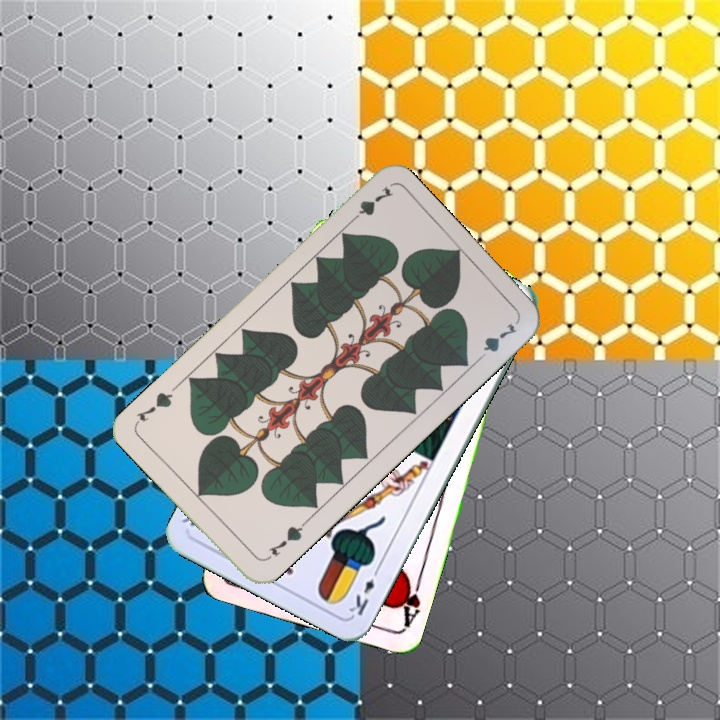EK: (345, 562, 382, 619)
G7: (343, 182, 396, 228), (264, 518, 308, 560)
HA: (394, 572, 424, 630)
